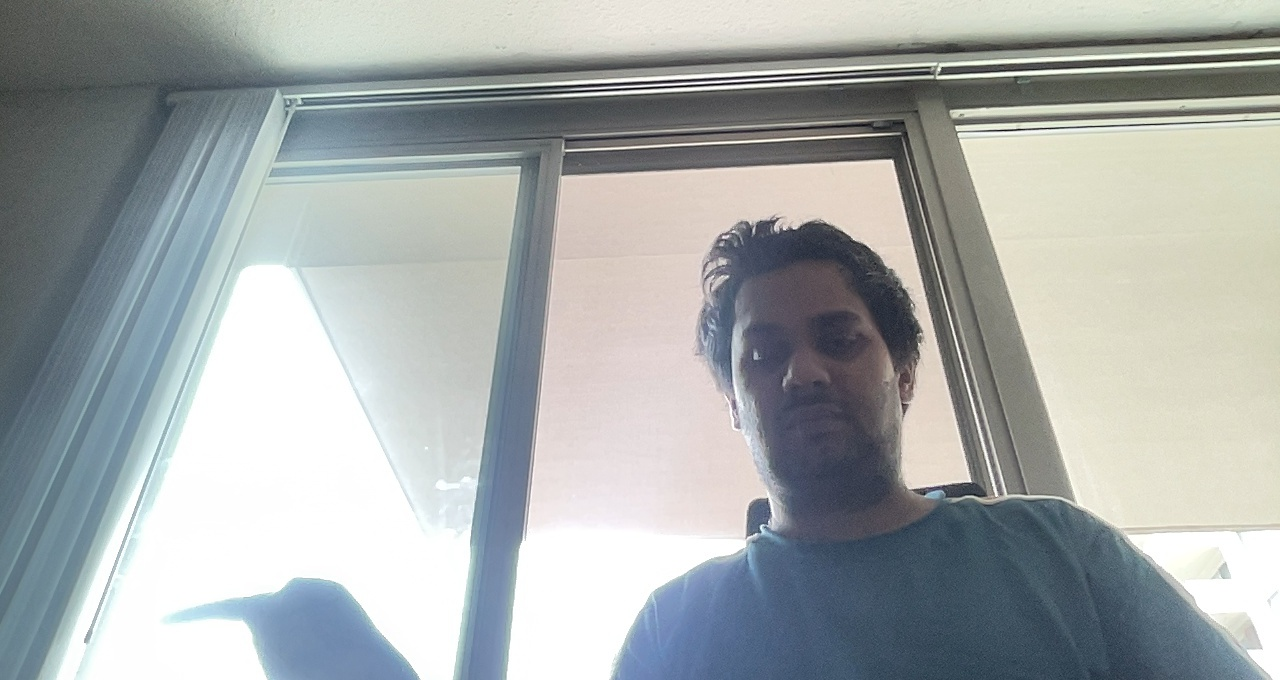fingerright: (150, 573, 402, 677)
